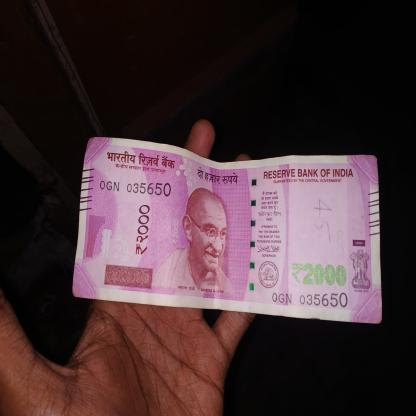New2000Front: (74, 149, 384, 320)
